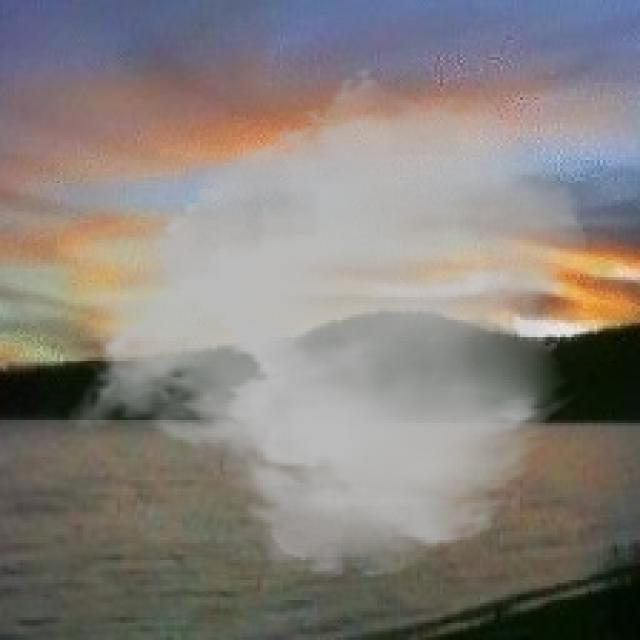smoke: (66, 66, 591, 583)
